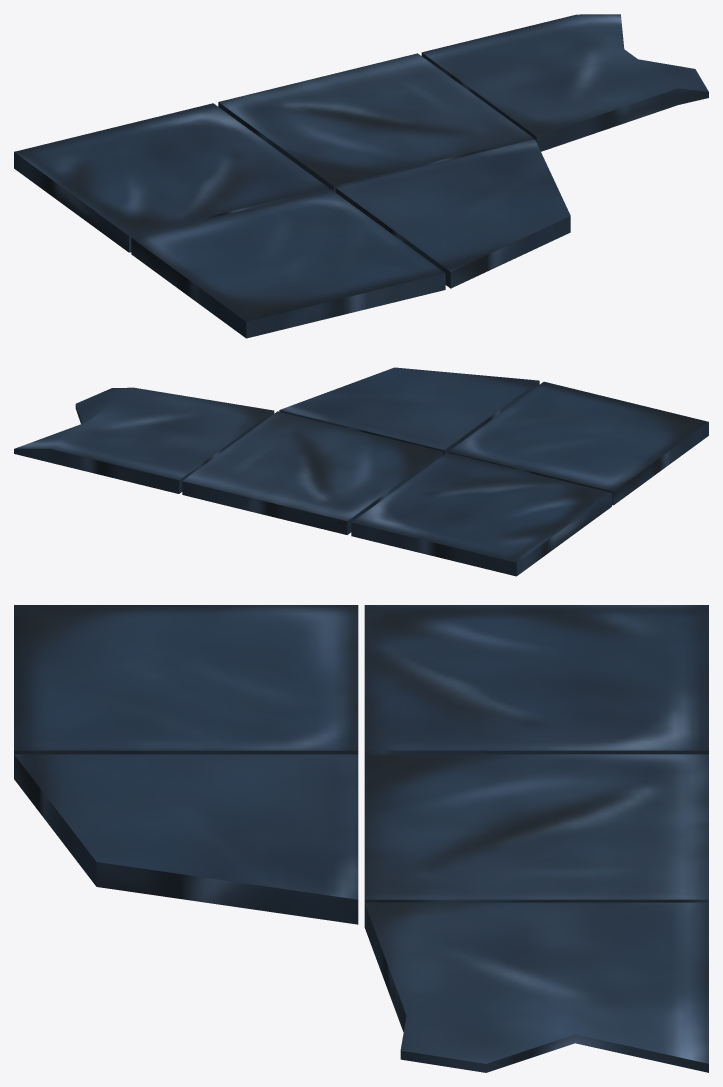
File: Church_tile_uneven_FBX.fbx
The picture shows the model from 3 angles, top to bottom: view 1: azimuth 30°, elevation 25°; view 2: azimuth 150°, elevation 25°; view 3: azimuth 270°, elevation 25°; orthographic projection. The views are drawn at different scales.
Visible parts, largest first — view 1: polySurface8; view 2: polySurface8; view 3: polySurface8.
Boxes of the visible parts, bbox=[...] form: polySurface8: bbox=[14, 14, 708, 338]; polySurface8: bbox=[14, 367, 708, 576]; polySurface8: bbox=[14, 605, 708, 1072].
Size of the model in its own units: 63.66 by 1.67 by 42.21.
